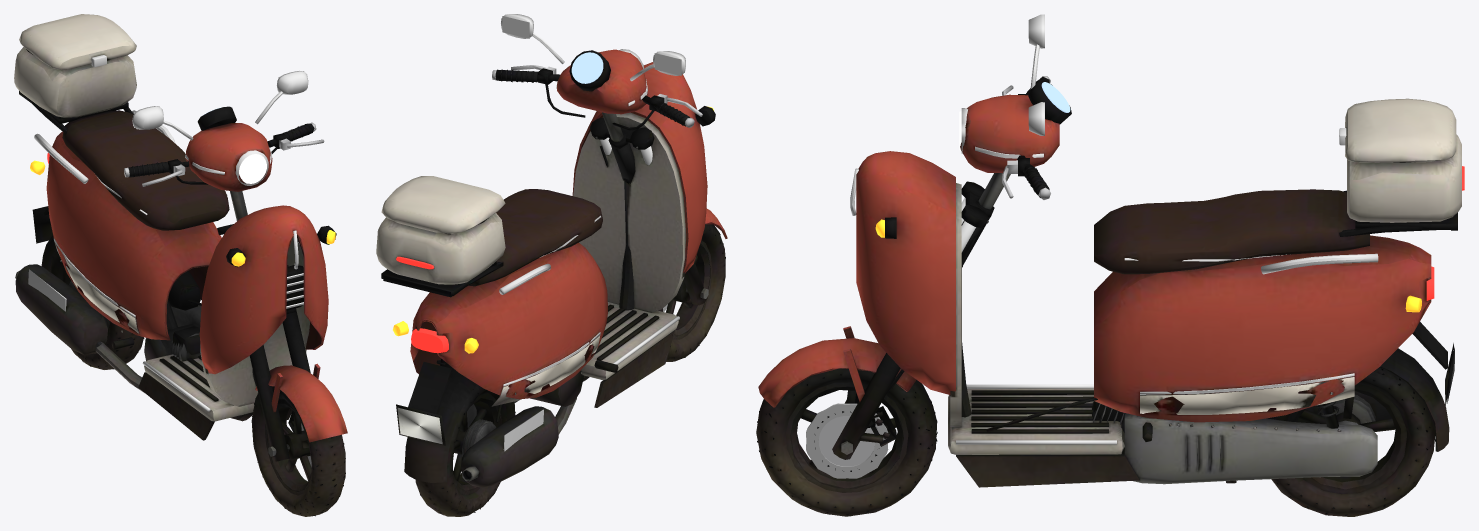
File: motor-scooter.glb
3 renders of one model, left to right at view 1: azimuth 30°, elevation 25°; view 2: azimuth 150°, elevation 25°; view 3: azimuth 270°, elevation 25°, orthographic. The views are drawn at different scales.
Visible parts, largest first — view 1: body, fork_mesh, wheel_F_mesh, lid_mesh, fork_fittings, fittings, wheel_R_mesh; view 2: body, fork_mesh, lid_mesh, wheel_R_mesh, wheel_F_mesh, fork_fittings, fittings; view 3: body, fork_mesh, wheel_F_mesh, wheel_R_mesh, lid_mesh, fittings, wheel_F_fittings, fork_fittings.
Part boxes in pixels (x1,y1,x2,y2): body: (14,47,336,440); fork_mesh: (128,106,347,461); wheel_F_mesh: (251,386,345,516); lid_mesh: (19,14,136,69); fork_fittings: (124,71,324,186); fittings: (28,110,335,411); wheel_R_mesh: (50,247,144,369); body: (376,62,715,487); fork_mesh: (495,49,727,305); lid_mesh: (381,176,505,233); wheel_R_mesh: (415,384,515,516); wheel_F_mesh: (658,224,725,361); fork_fittings: (492,14,702,165); fittings: (393,106,713,451); body: (856,134,1461,487); fork_mesh: (758,76,1071,459); wheel_F_mesh: (756,368,937,516); wheel_R_mesh: (1267,367,1435,516); lid_mesh: (1345,98,1456,162); fittings: (850,166,1464,444); wheel_F_fittings: (806,403,888,478); fork_fittings: (959,14,1070,252).
Size of the model in its own units: 0.7119 by 1.3 by 1.85.
Materials: 9 (1 with a texture image).
